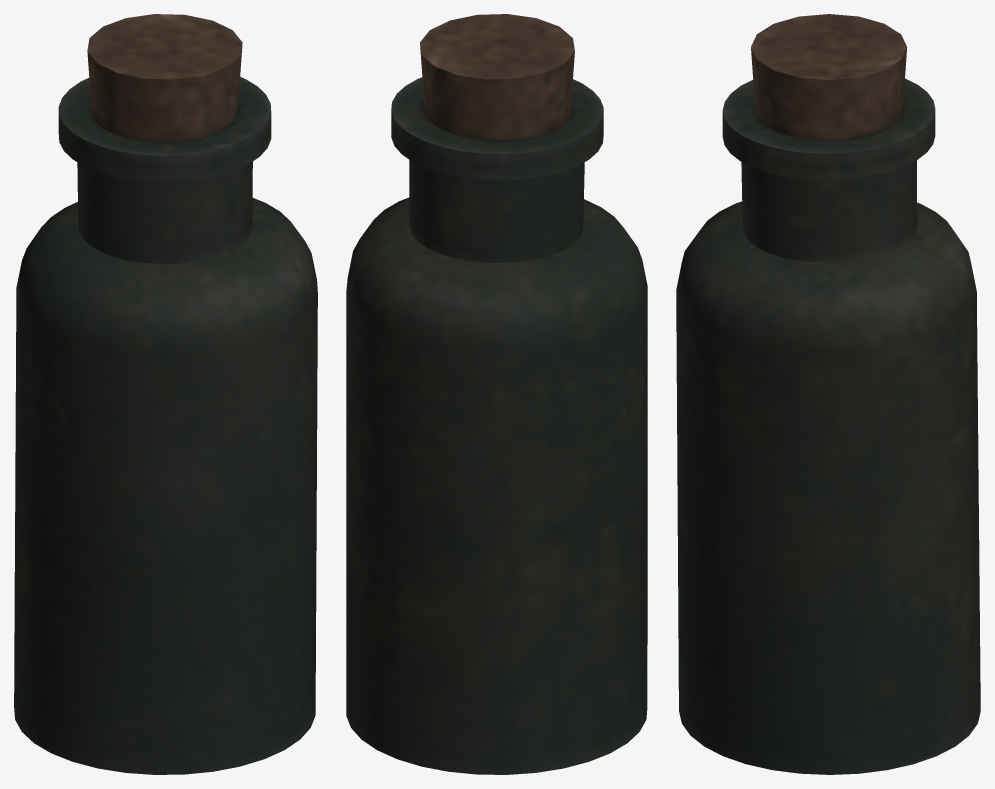
The model's file is SM_Bottles_4.fbx.
The picture shows the model from 3 angles, left to right: view 1: azimuth 30°, elevation 25°; view 2: azimuth 150°, elevation 25°; view 3: azimuth 270°, elevation 25°; orthographic projection.
Visible parts, largest first — view 1: SM_Bottles_4_LOD0; view 2: SM_Bottles_4_LOD0; view 3: SM_Bottles_4_LOD0.
Part boxes in pixels (x1=…): SM_Bottles_4_LOD0: x1=14, y1=14, x2=317, y2=774; SM_Bottles_4_LOD0: x1=346, y1=14, x2=647, y2=774; SM_Bottles_4_LOD0: x1=676, y1=14, x2=980, y2=774.
Bounding box in the file's own units: 3.77 × 3.79 × 9.12.
